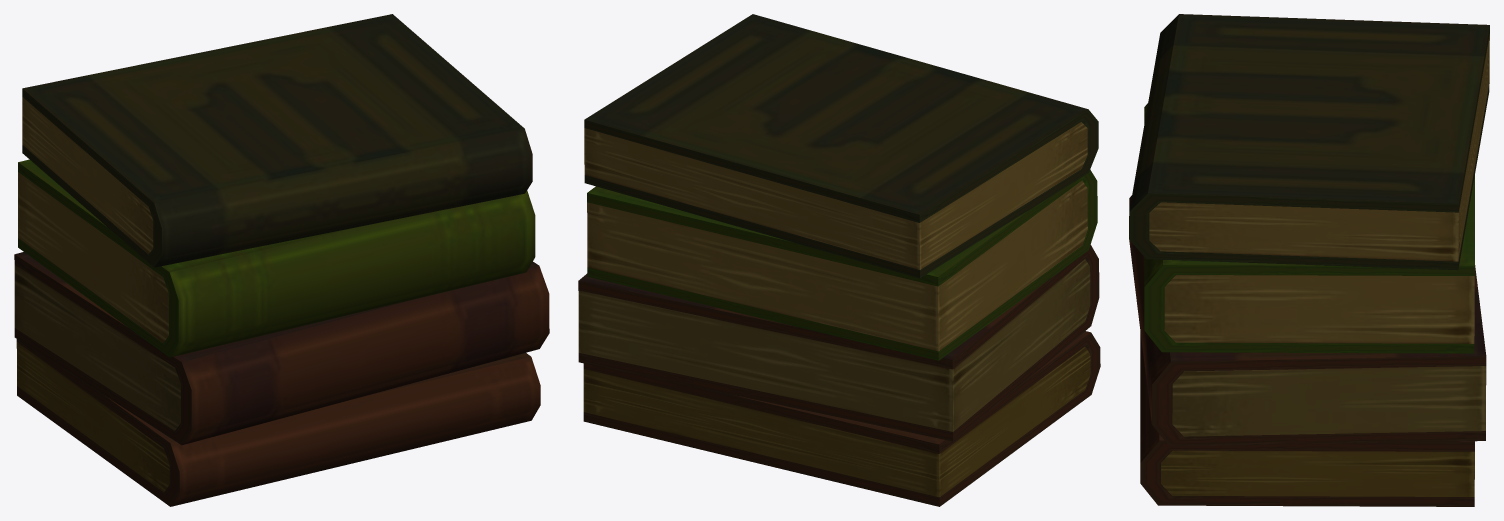
The model's file is book_stack.glb.
3 views of the same model, side by side, from view 1: azimuth 30°, elevation 25°; view 2: azimuth 150°, elevation 25°; view 3: azimuth 270°, elevation 25° (orthographic). The views are drawn at different scales.
Parts seen in each view (by area): view 1: Book_Stack_1; view 2: Book_Stack_1; view 3: Book_Stack_1.
Boxes of the visible parts, x1,y1,x2,y2 form: Book_Stack_1: (14,14,549,506); Book_Stack_1: (578,14,1100,506); Book_Stack_1: (1129,14,1489,506).
Bounding box in the file's own units: 0.2849 × 0.2137 × 0.2263.
1 material, 1 textured.
